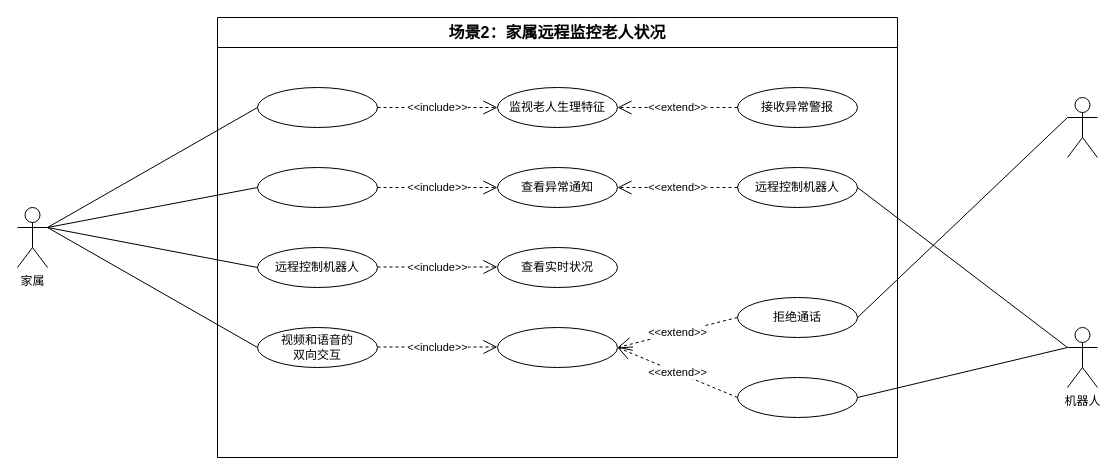
This 1118x475 diagram has some shape labels left out. Here are the shapes that lost their labels. From the top down, the centre of each, then its label:
(317,107): 监视老人状况
(1082,127): 老人
(317,187): 接受异常情况通知
(557,347): 视频和语音通话
(797,397): 网络或系统故障
